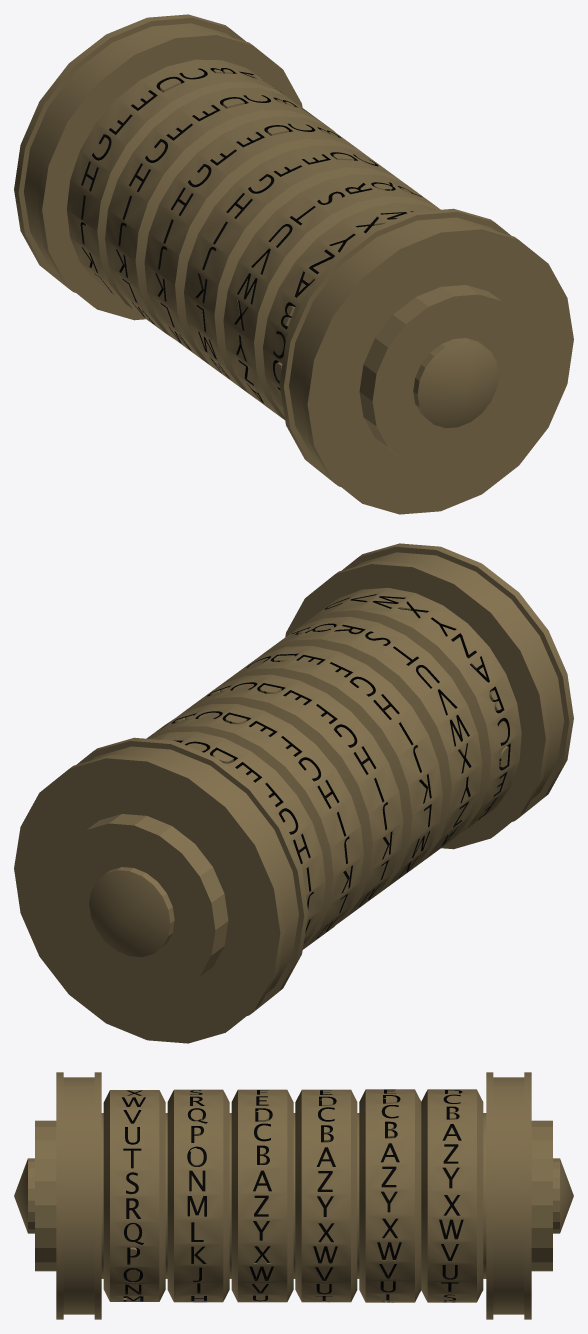
The model's file is CypherWheelModel.fbx.
The picture shows the model from 3 angles, top to bottom: view 1: azimuth 30°, elevation 25°; view 2: azimuth 150°, elevation 25°; view 3: azimuth 270°, elevation 25°; orthographic projection. The views are drawn at different scales.
Visible parts, largest first — view 1: pCylinder1, pTorus36, pTorus34, pTorus35, pTorus33, pTorus37, pTorus32; view 2: pCylinder1, pTorus33, pTorus32, pTorus35, pTorus34, pTorus36, pTorus37; view 3: pCylinder1, pTorus36, pTorus37, pTorus34, pTorus33, pTorus35, pTorus32.
Part boxes in pixels (<box>): pCylinder1: <box>14,14,573,514</box>; pTorus36: <box>105,88,334,337</box>; pTorus34: <box>184,145,404,393</box>; pTorus35: <box>144,116,364,365</box>; pTorus33: <box>223,174,440,419</box>; pTorus37: <box>66,59,297,308</box>; pTorus32: <box>263,202,436,416</box>; pCylinder1: <box>14,543,573,1043</box>; pTorus33: <box>262,616,482,866</box>; pTorus32: <box>301,588,521,844</box>; pTorus35: <box>177,674,403,925</box>; pTorus34: <box>222,645,442,894</box>; pTorus36: <box>147,704,363,949</box>; pTorus37: <box>149,731,325,945</box>; pCylinder1: <box>14,1072,573,1319</box>; pTorus36: <box>359,1089,421,1302</box>; pTorus37: <box>421,1089,483,1302</box>; pTorus34: <box>231,1089,293,1302</box>; pTorus33: <box>167,1089,229,1302</box>; pTorus35: <box>295,1089,357,1302</box>; pTorus32: <box>103,1090,165,1301</box>.
Bounding box in the file's own units: 4 × 4 × 8.99.
